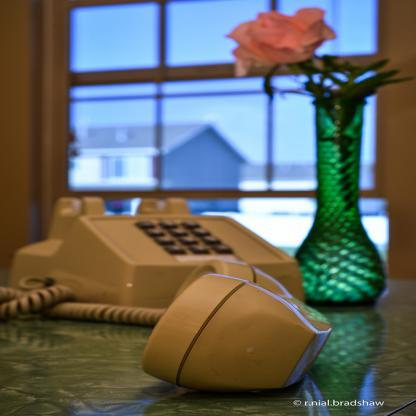vase: (294, 92, 390, 308)
